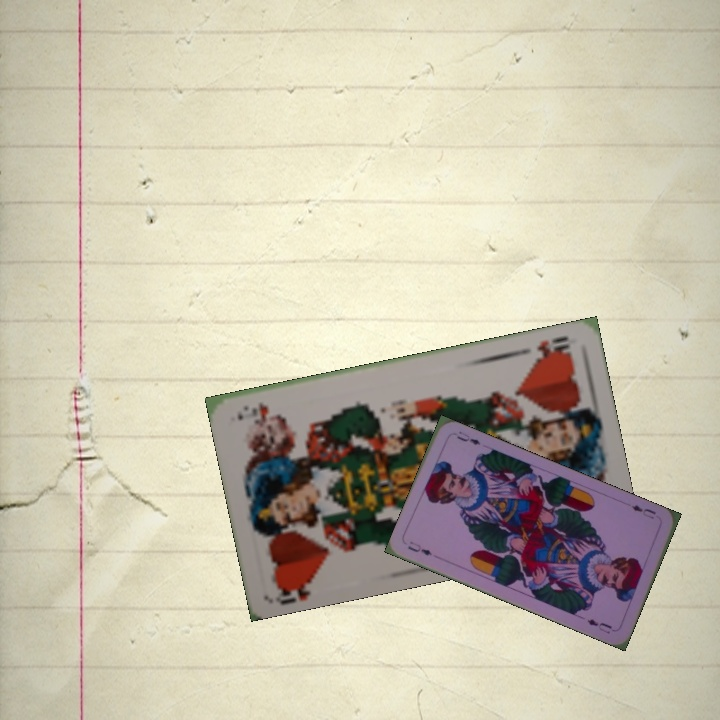EU: (403, 537, 435, 558), (628, 501, 658, 522)
HO: (272, 572, 317, 607), (532, 332, 573, 363)
